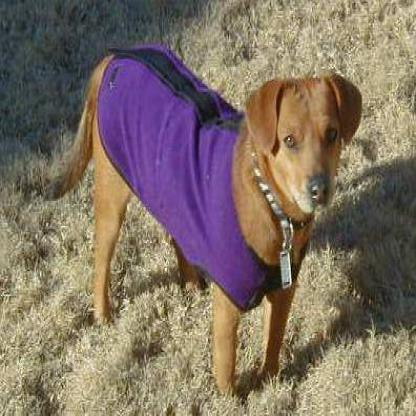dog: (71, 13, 366, 382)
